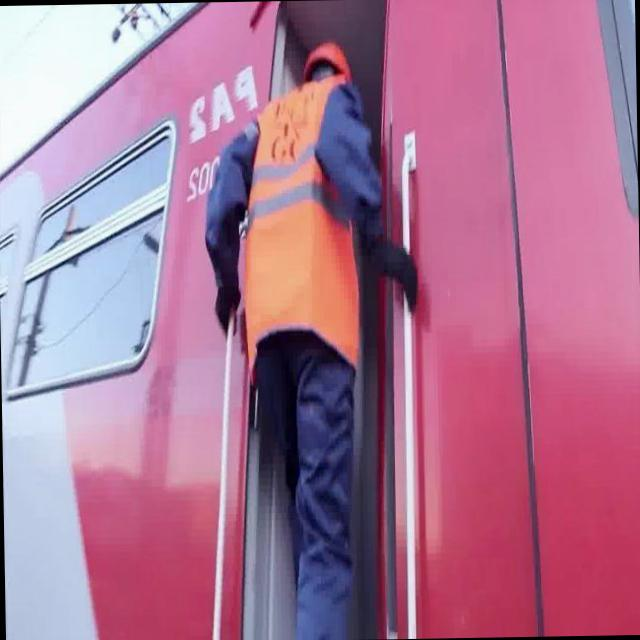vest: (240, 70, 361, 385)
